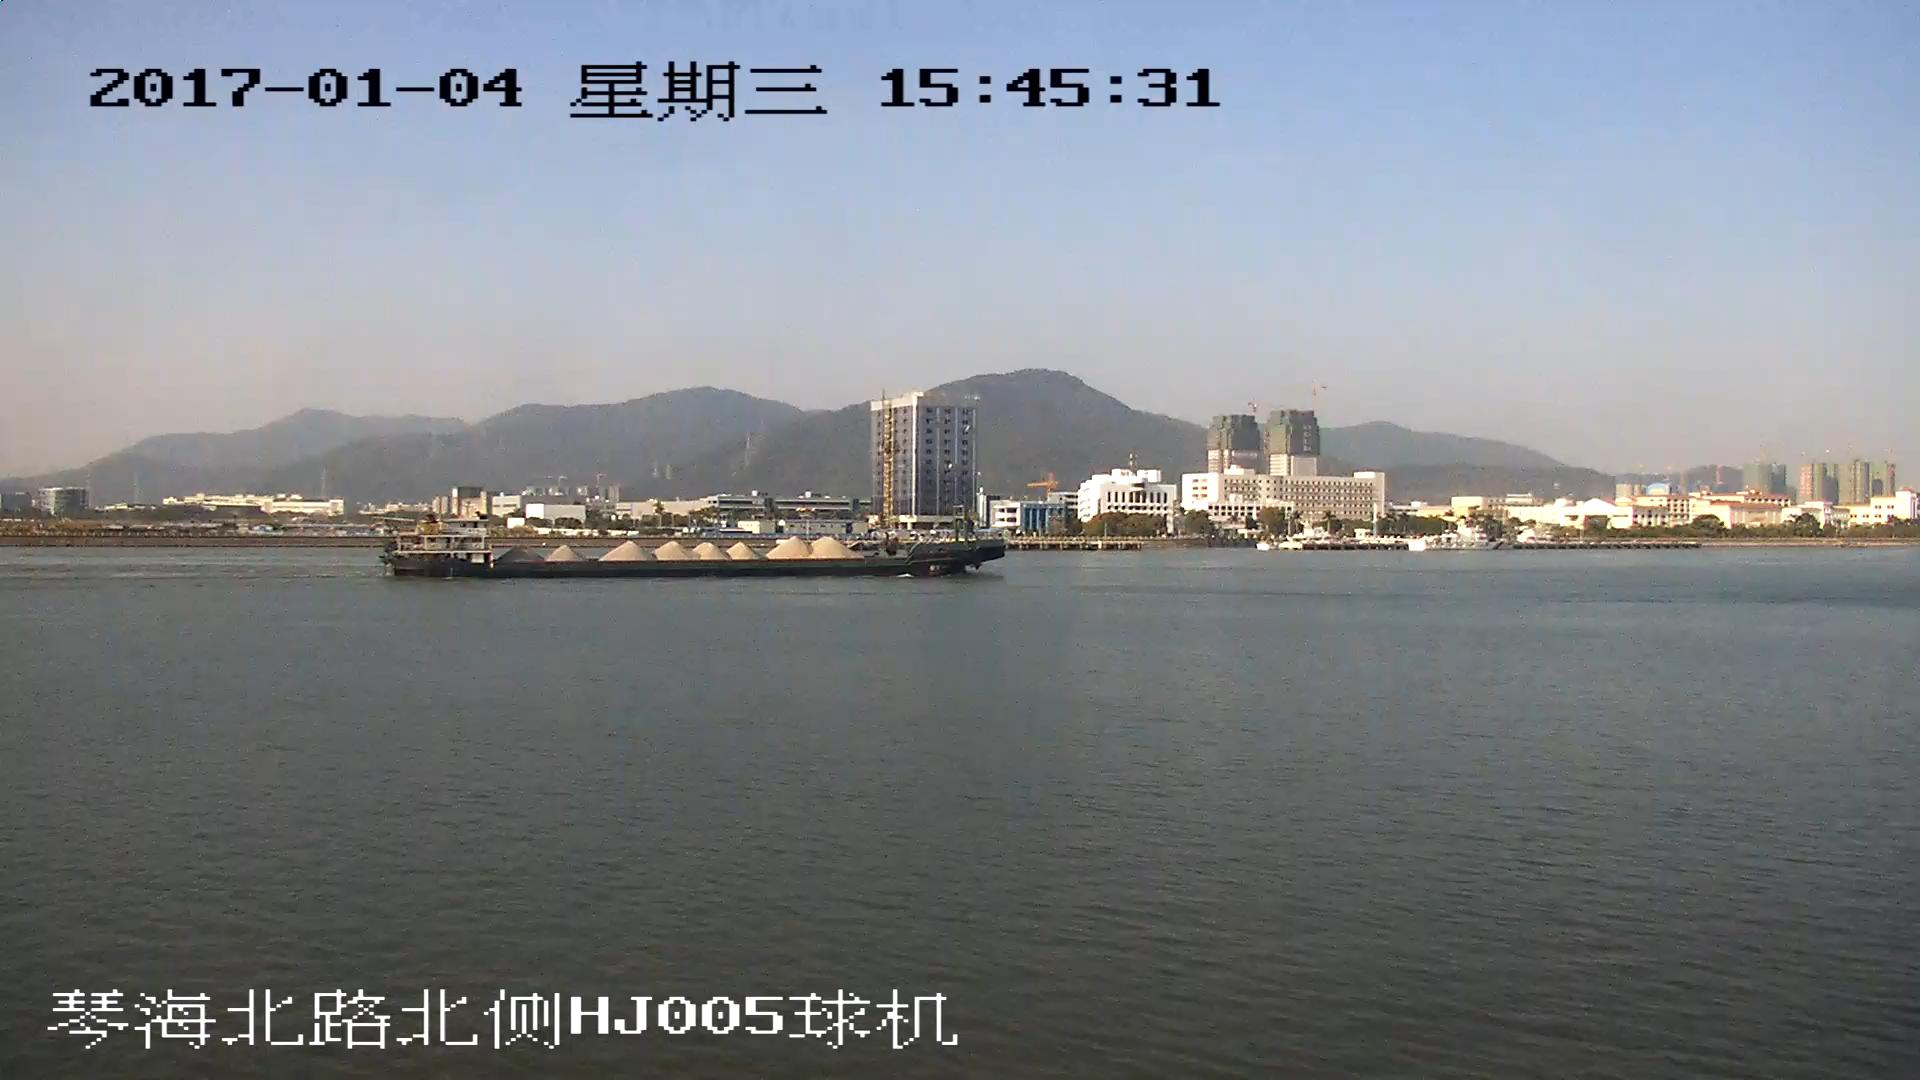ore carrier: (385, 513, 1006, 581)
